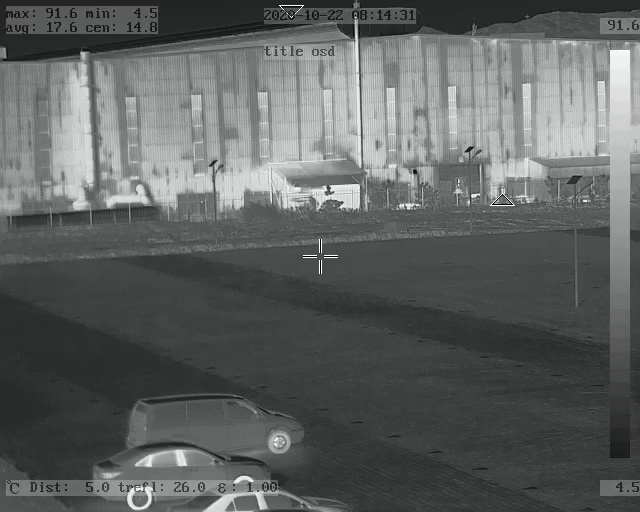vehicle: (88, 440, 283, 504), (126, 393, 307, 456), (168, 481, 348, 512)
